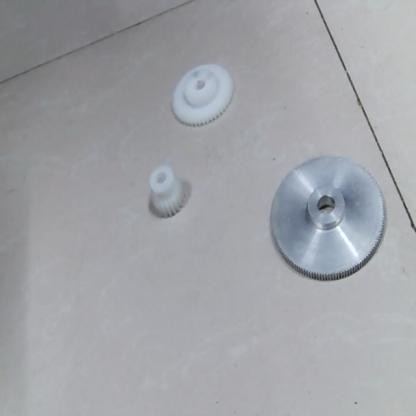FOD: (262, 154, 389, 284), (170, 62, 233, 128), (144, 166, 186, 219)
